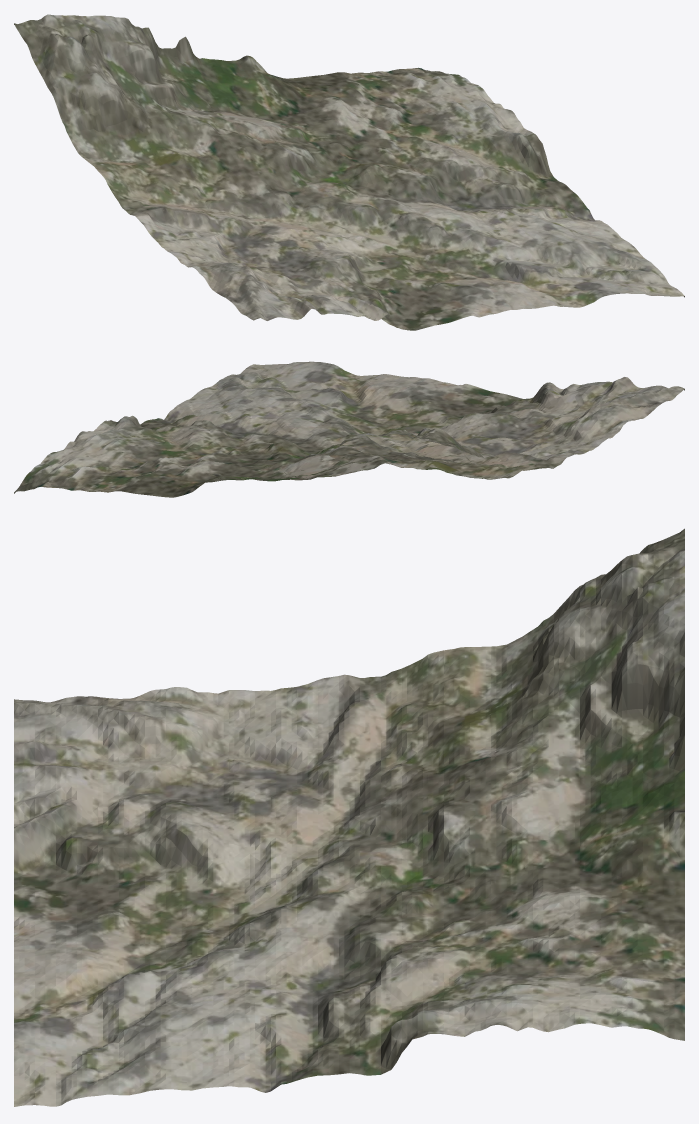
3 renders of one model, top to bottom at view 1: azimuth 30°, elevation 25°; view 2: azimuth 150°, elevation 25°; view 3: azimuth 270°, elevation 25°, orthographic. The views are drawn at different scales.
Bounding box in the file's own units: 250 × 114 × 241.
1 material, 1 textured.
